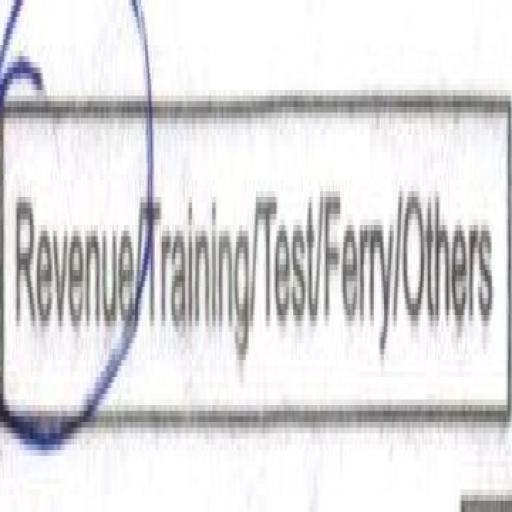check: (0, 0, 142, 463)
